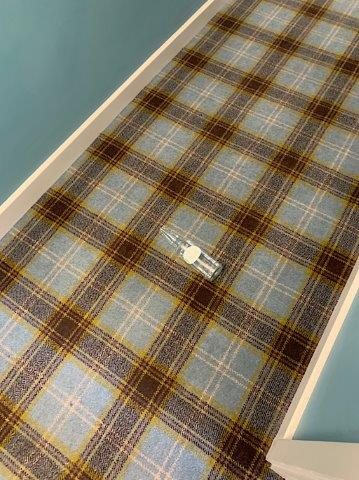botolkaca: (161, 229, 221, 280)
